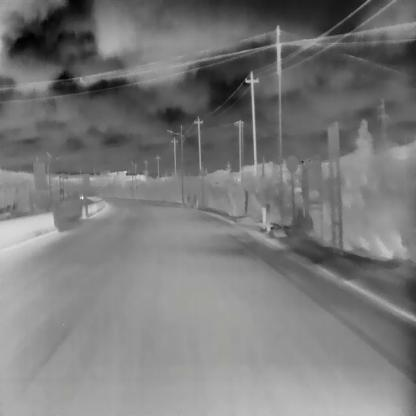car: (78, 192, 83, 198)
